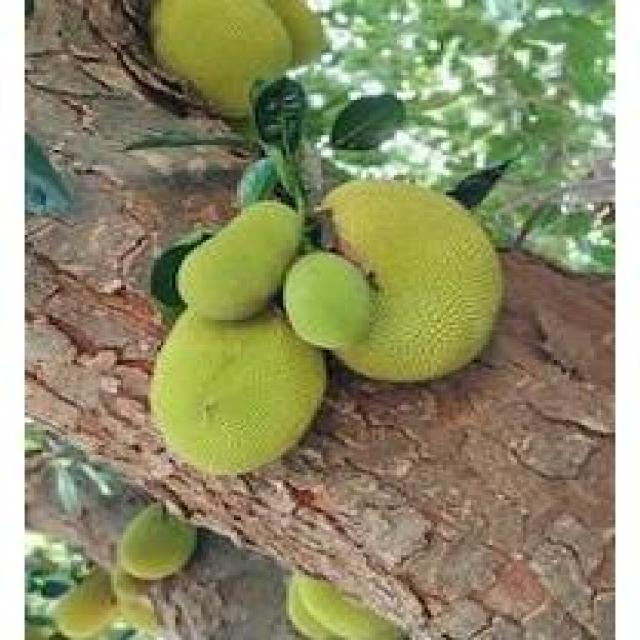Fruit: (280, 158, 523, 408), (129, 278, 351, 500), (129, 0, 345, 118)
